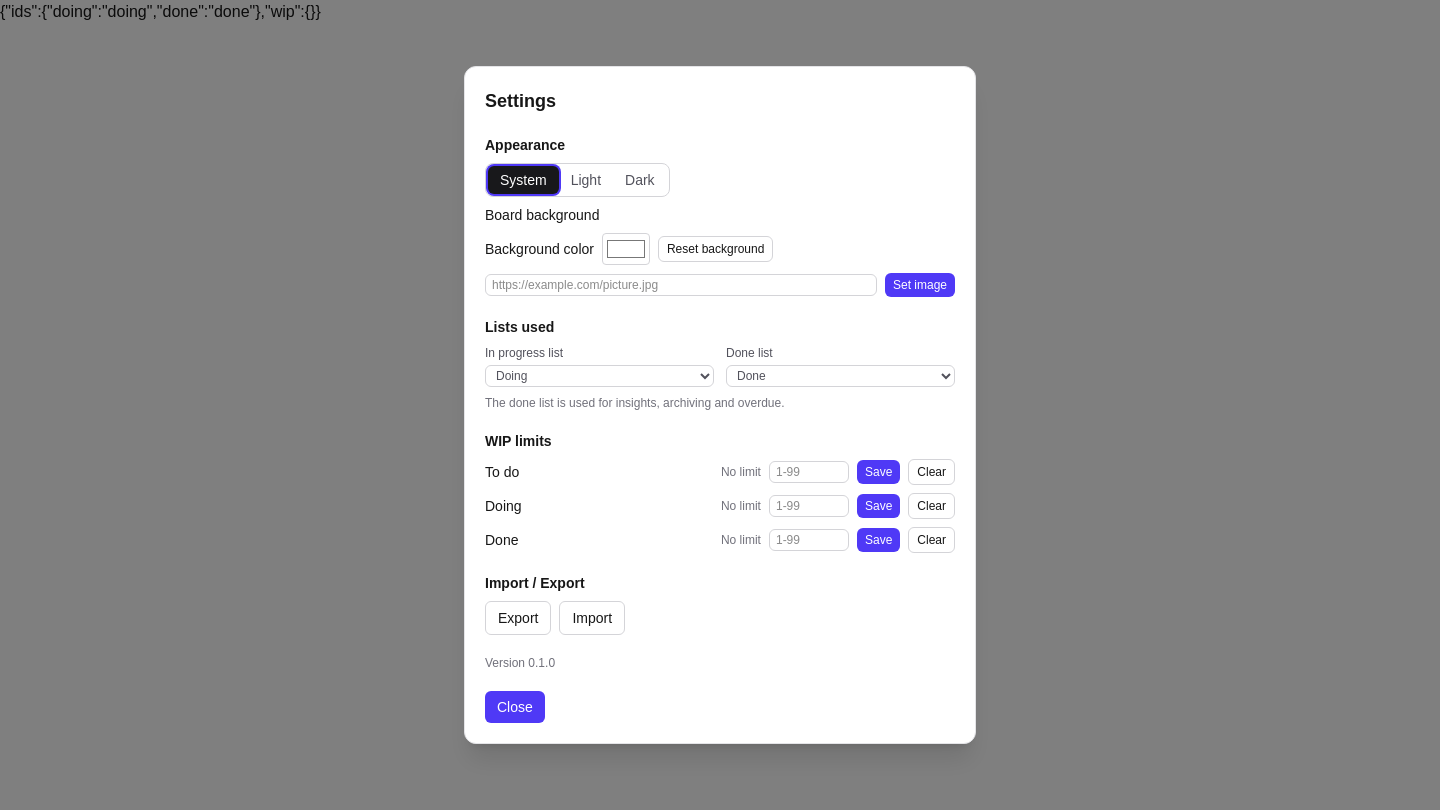
Test: <SettingsPanel /> › hints when a list is not set
Expected: the text "Pick the lists that mean" is not shown
Select "Not set" in the dropdown labelled "Done list" at (840, 376), box left=726, top=365, right=955, bottom=387
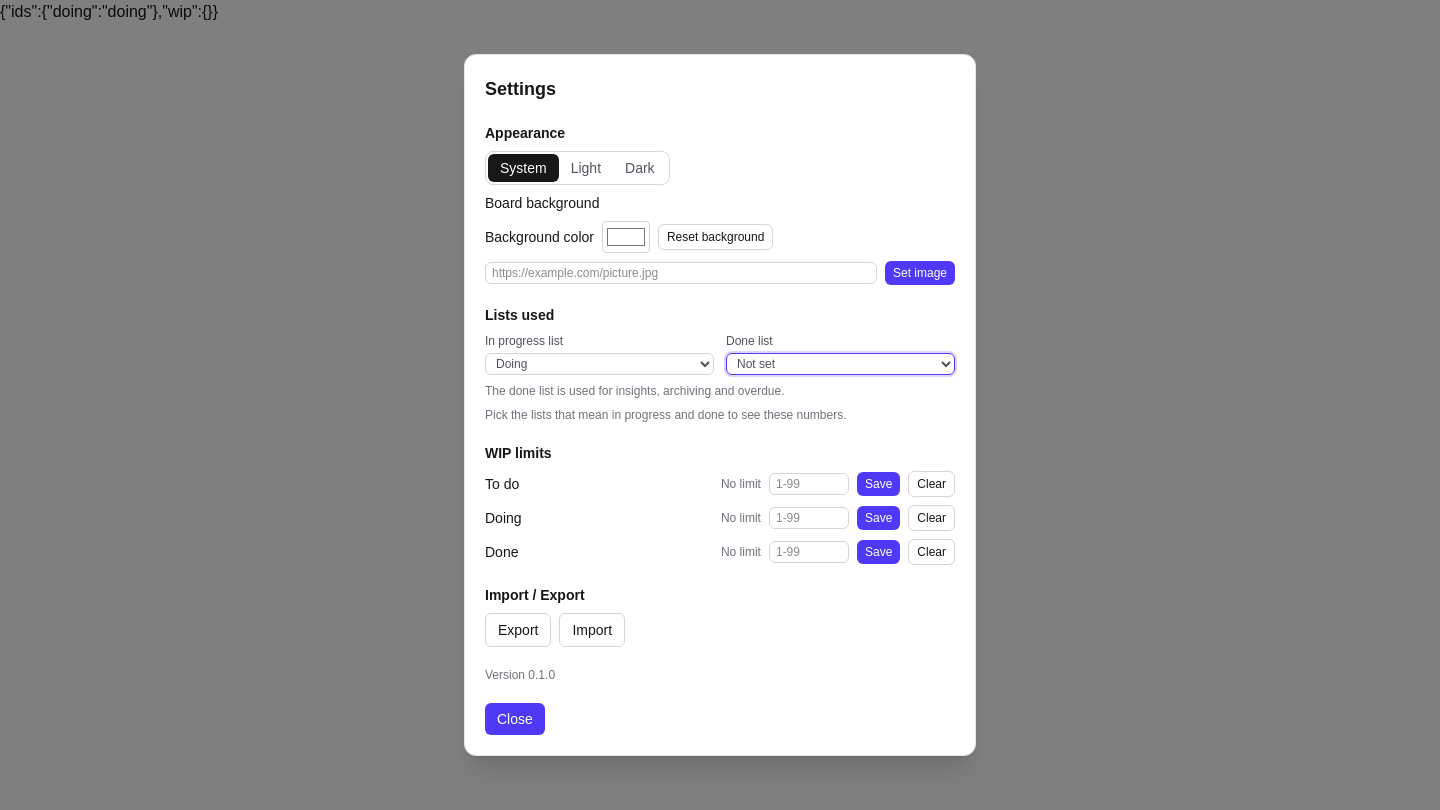
Now the text "Pick the lists that mean in progress and done" is shown, box left=485, top=408, right=846, bottom=422
